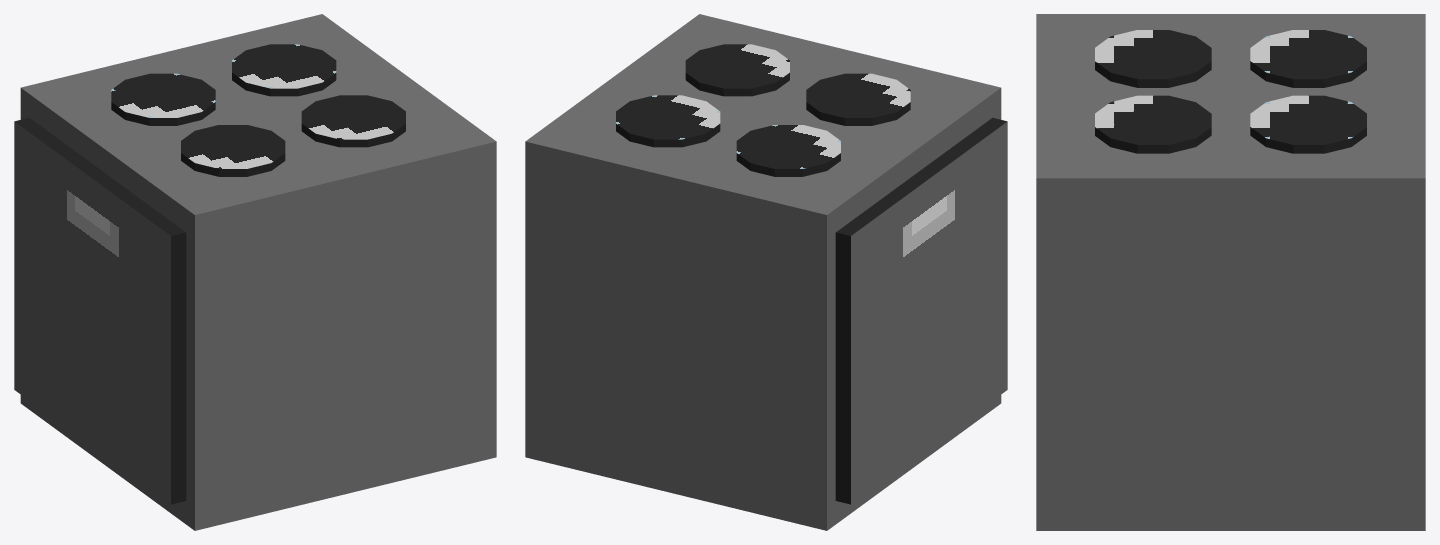
File: estufa.glb
3 renders of one model, left to right at view 1: azimuth 30°, elevation 25°; view 2: azimuth 150°, elevation 25°; view 3: azimuth 270°, elevation 25°, orthographic. The views are drawn at different scales.
Parts seen in each view (by area): view 1: cuboid (×2), cylinder (×4); view 2: cuboid (×2), cylinder (×4); view 3: cuboid, cylinder (×4).
Part boxes in pixels (left/top/right/bottom): cuboid (×2): left=14, top=14, right=496, bottom=530; cylinder (×4): left=111, top=44, right=405, bottom=176; cuboid (×2): left=525, top=14, right=1007, bottom=530; cylinder (×4): left=616, top=44, right=910, bottom=176; cuboid: left=1036, top=14, right=1425, bottom=530; cylinder (×4): left=1095, top=30, right=1366, bottom=153.
Size of the model in its own units: 0.6562 by 0.6406 by 0.625.
1 material, 1 textured.
